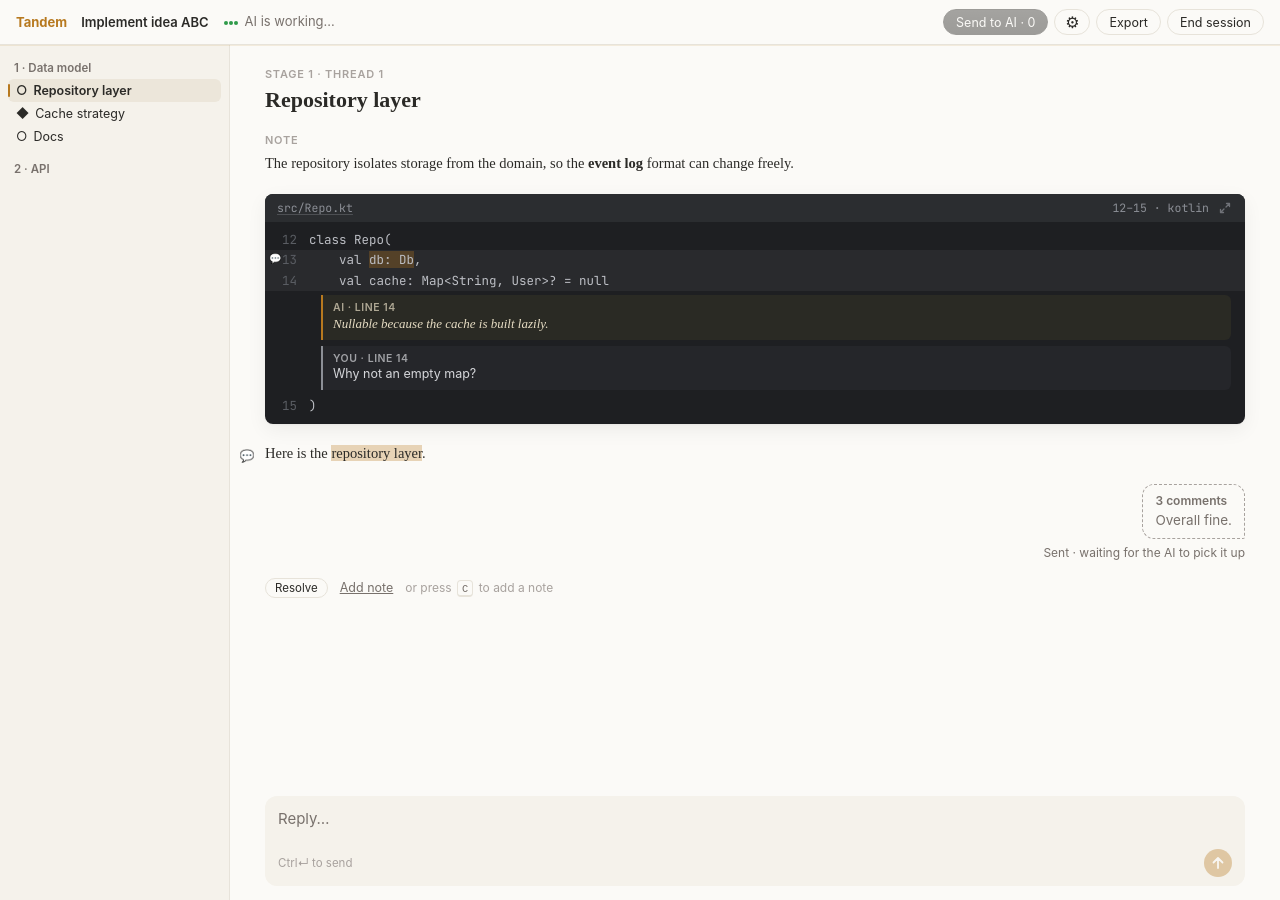
Test: SessionPage › clears the line selection when the current item changes (M4)
Expected: the heading "Repository layer" is shown, [265,87,421,112]
# Select line 14 of b_2 in t_1.
Click the button named "Line 14": (287, 281) [265,271,309,291]
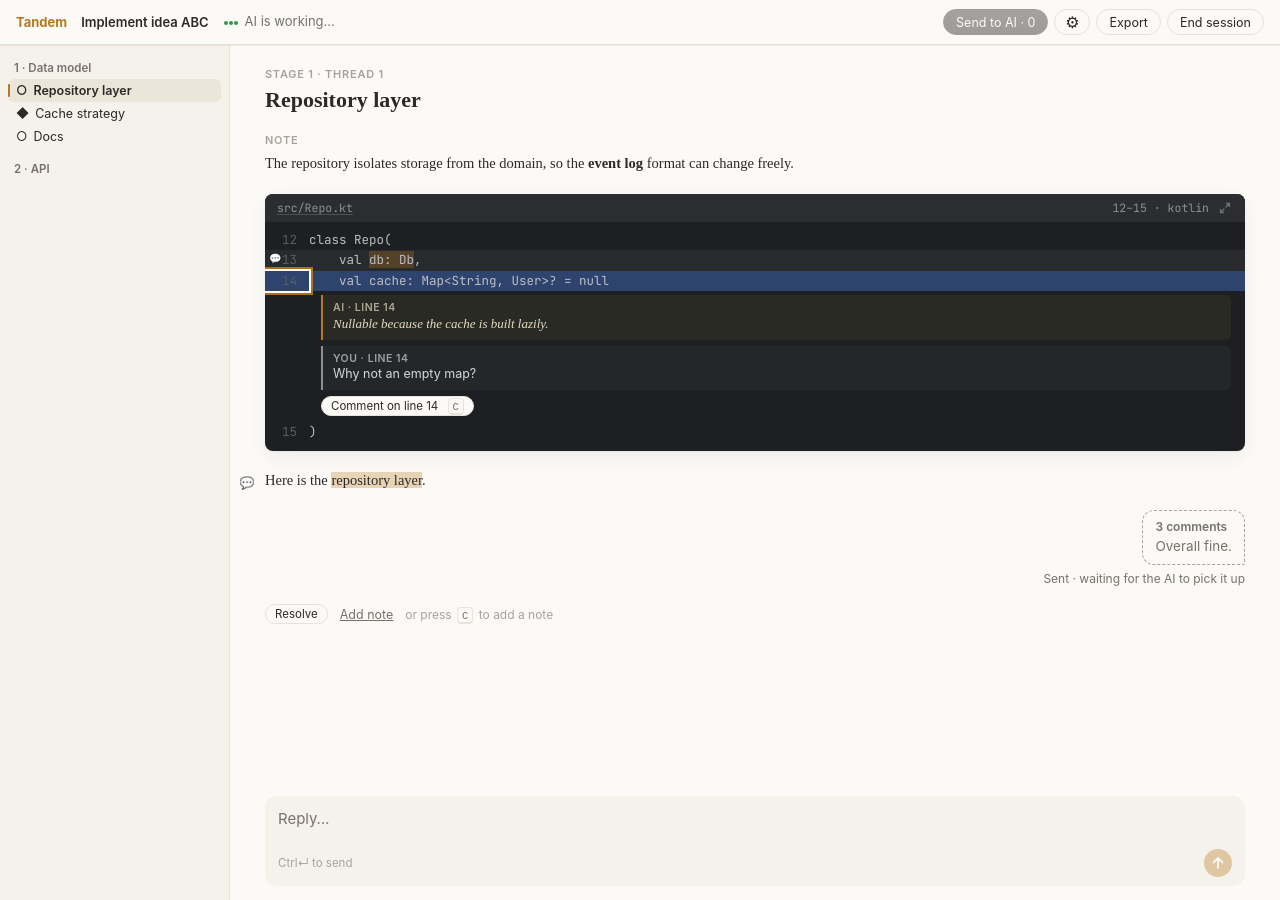
Expected: the button "Comment on line 14 c" is shown, [321,396,474,416]
# Navigate away to t_2 without resolving the selection...
Type keys "j"
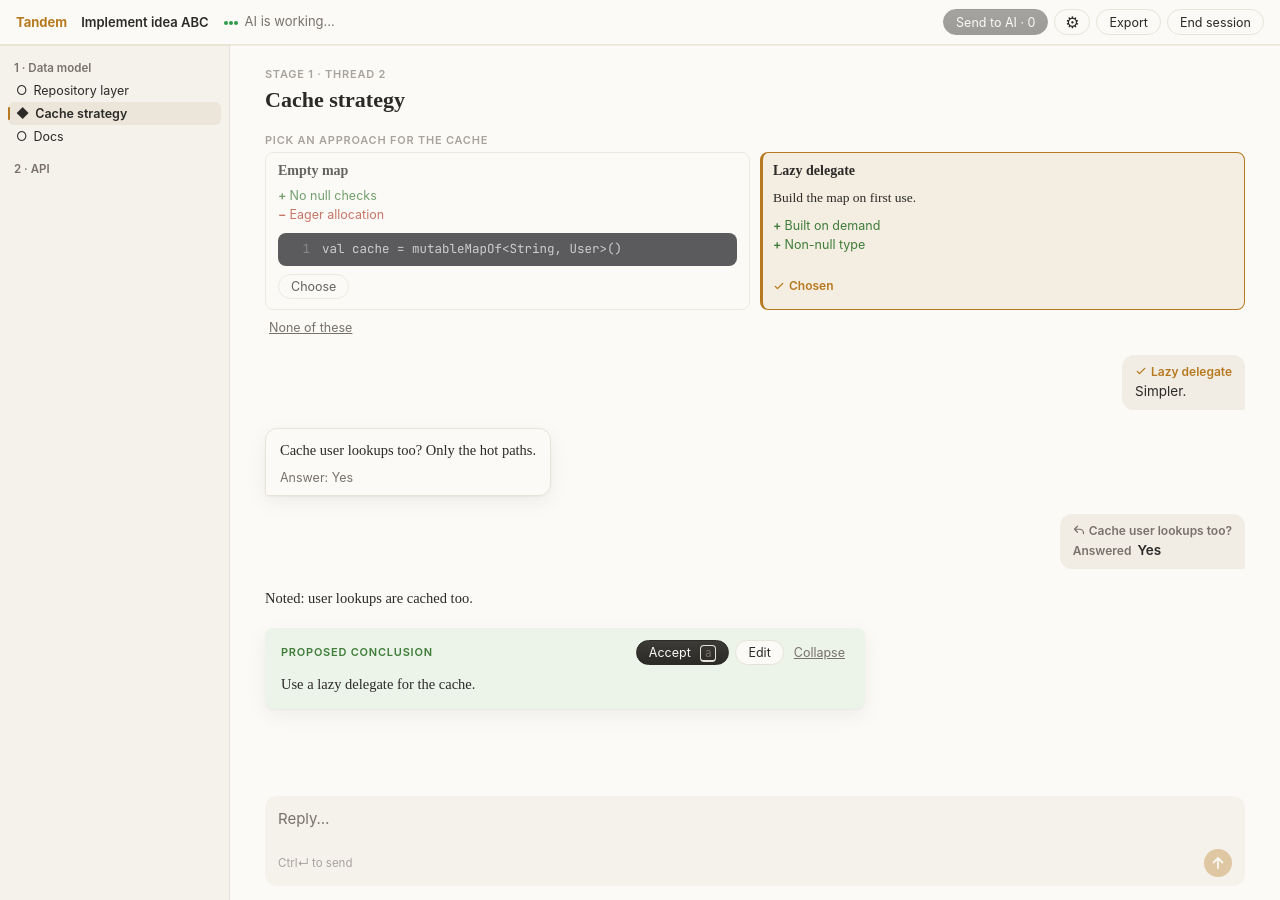
Expected: the heading "Cache strategy" is shown, [265,87,405,112]
Type keys "c"
Type keys "k"
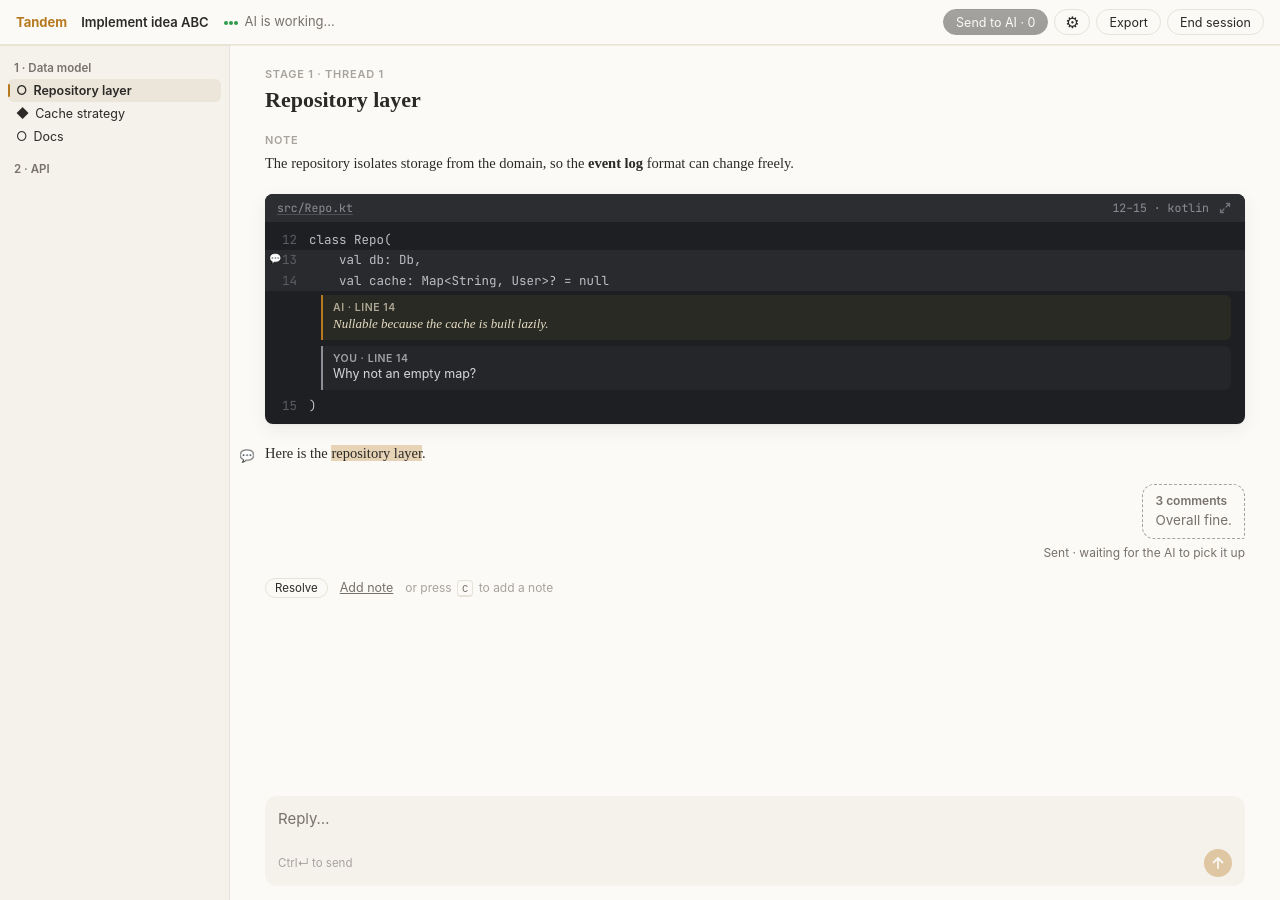
Expected: the heading "Repository layer" is shown, [265,87,421,112]
